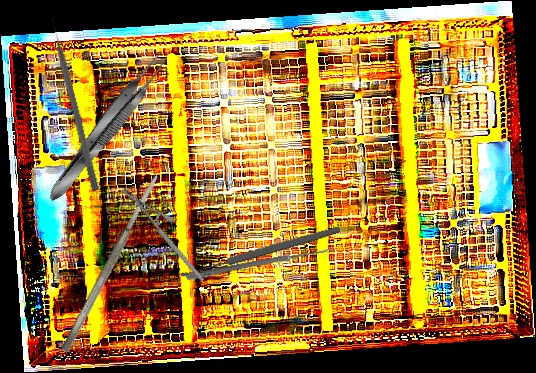Needle Holder: (120, 173, 205, 297)
Pusher: (48, 16, 102, 192)
Spatula Surgical: (58, 173, 163, 354)
Surgical Spoon: (179, 224, 342, 280), (185, 245, 335, 282)
Tissue Forceps: (40, 49, 172, 208)
